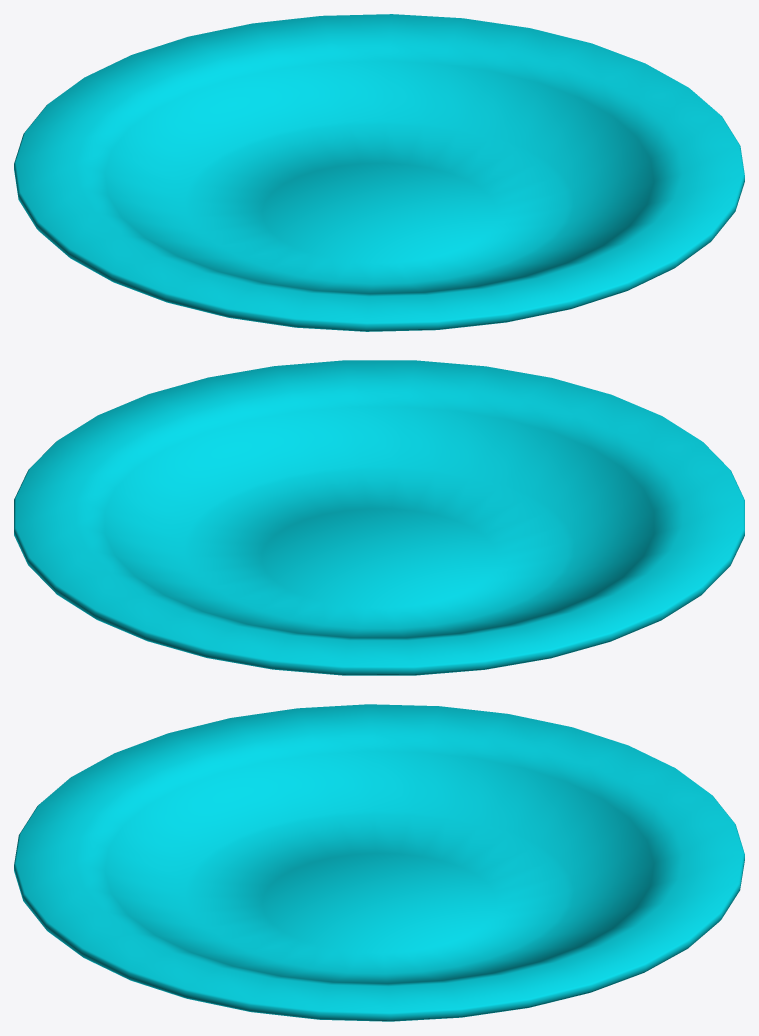
Rendered from Prato.fbx.
3 renders of one model, top to bottom at view 1: azimuth 30°, elevation 25°; view 2: azimuth 150°, elevation 25°; view 3: azimuth 270°, elevation 25°, orthographic.
Parts seen in each view (by area): view 1: Prato.039; view 2: Prato.039; view 3: Prato.039.
Boxes of the visible parts, <box> form: Prato.039: <box>14,14,744,331</box>; Prato.039: <box>14,360,744,675</box>; Prato.039: <box>14,704,744,1021</box>.
Size of the model in its own units: 374 by 31.17 by 374.
